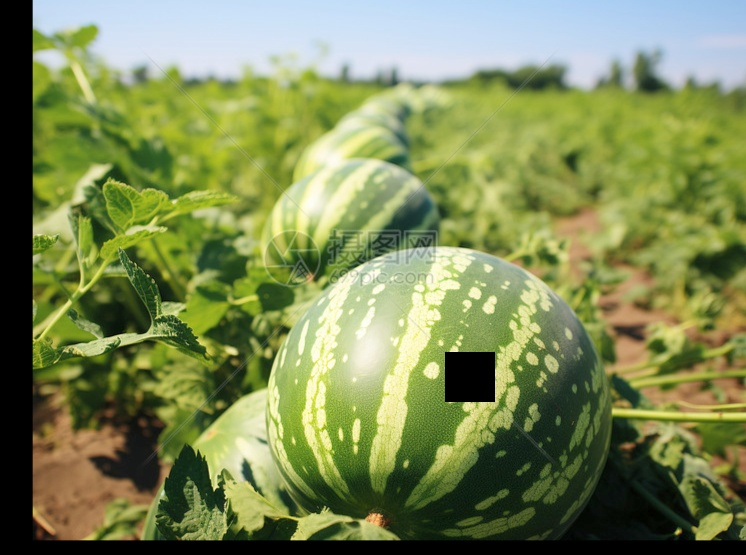watermelon: (266, 250, 608, 535), (262, 156, 440, 283)
